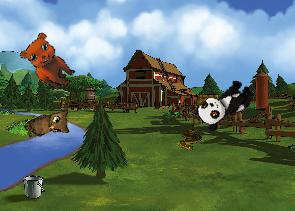bear: (14, 28, 85, 94)
owl: (22, 104, 76, 149)
panda: (191, 73, 258, 134)
